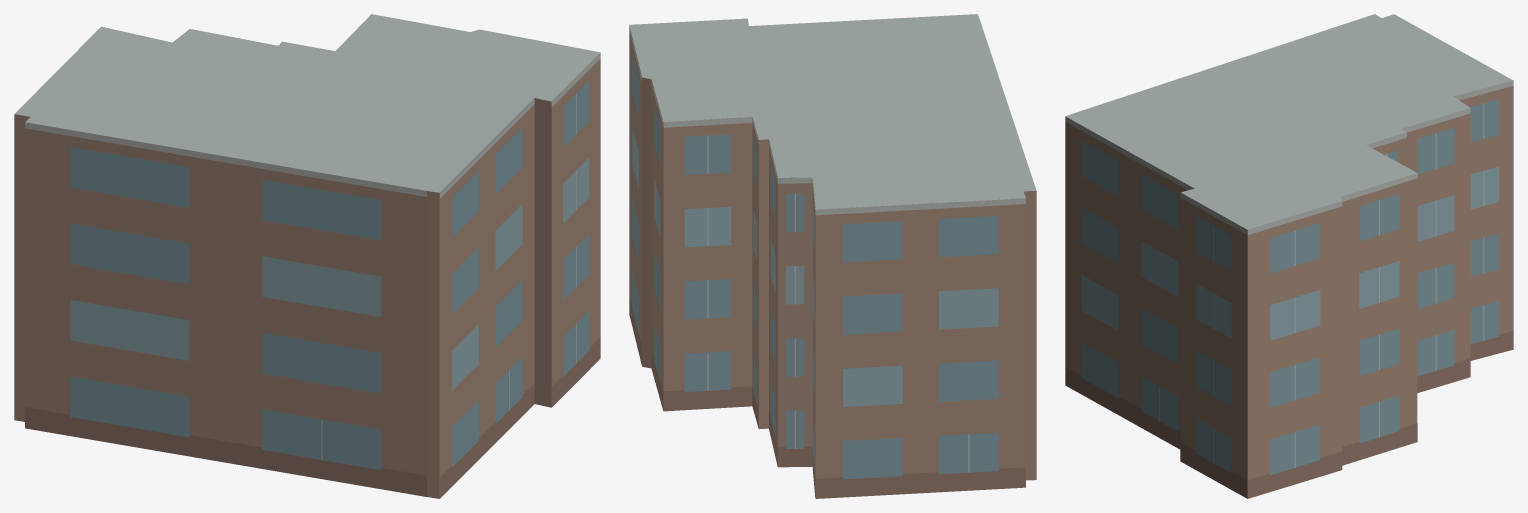
The model's file is survey-upis-32720961.glb.
3 renders of one model, left to right at view 1: azimuth 30°, elevation 25°; view 2: azimuth 150°, elevation 25°; view 3: azimuth 270°, elevation 25°, orthographic. The views are drawn at different scales.
Parts seen in each view (by area): view 1: survey-upis-32720961.tmp; view 2: survey-upis-32720961.tmp; view 3: survey-upis-32720961.tmp.
Part boxes in pixels (x1,y1,x2,y2): survey-upis-32720961.tmp: (14, 14, 600, 498); survey-upis-32720961.tmp: (629, 14, 1036, 498); survey-upis-32720961.tmp: (1065, 14, 1513, 498).
Size of the model in its own units: 21 by 12.2 by 18.43.
